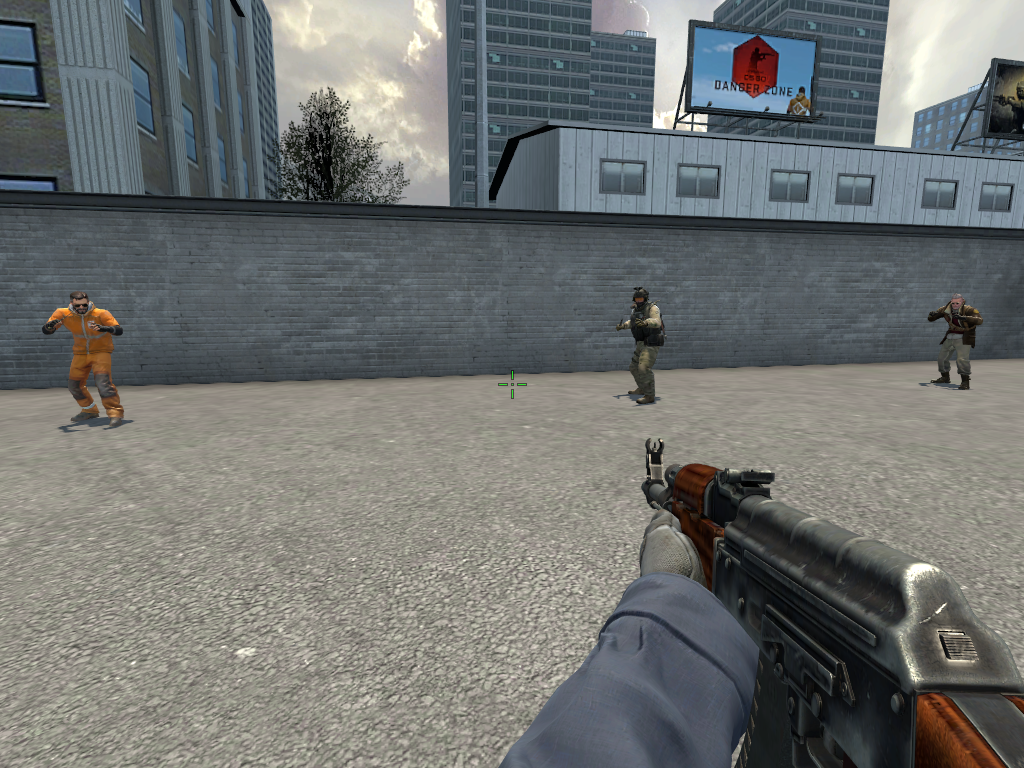ct head: (633, 289, 647, 307)
tr head: (72, 294, 88, 312), (951, 294, 962, 313)
